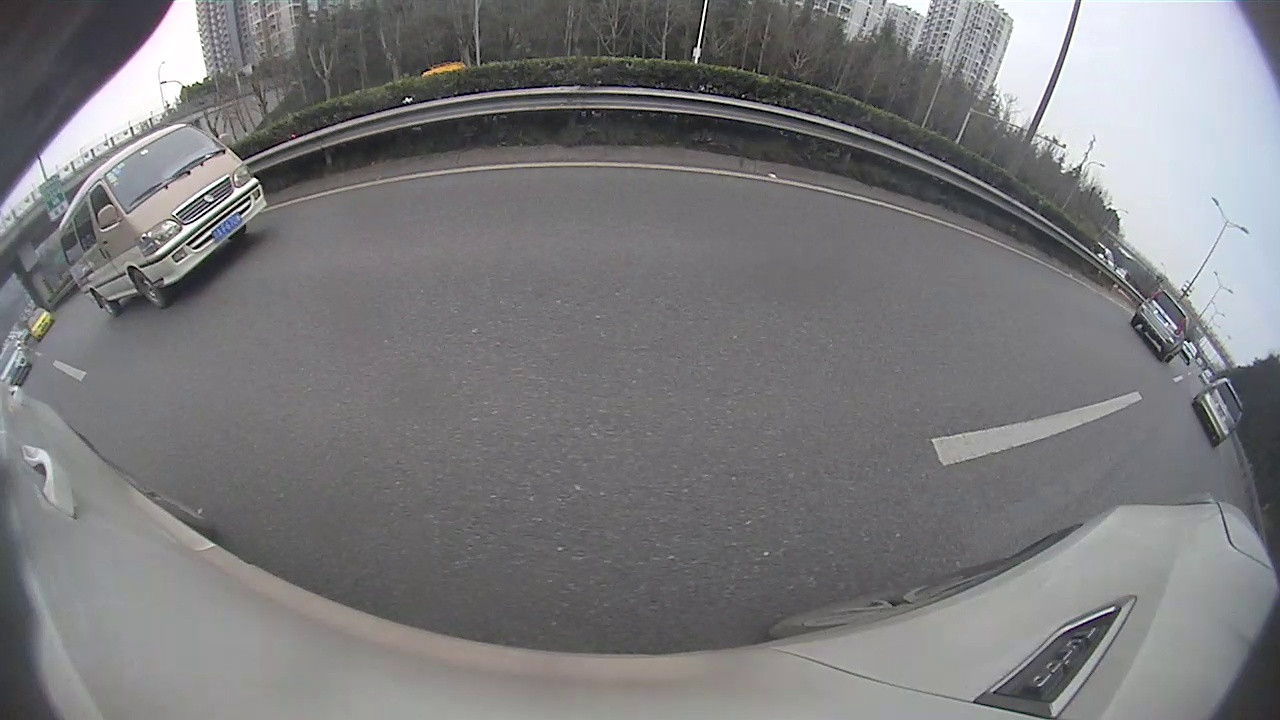car: (57, 123, 268, 318), (1130, 289, 1188, 362), (1191, 377, 1245, 448)
front: (129, 266, 171, 311)
